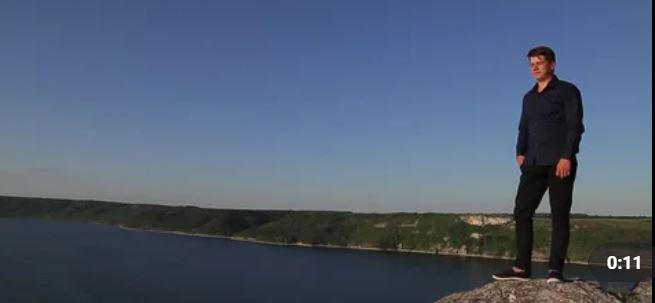person: (494, 46, 586, 282)
